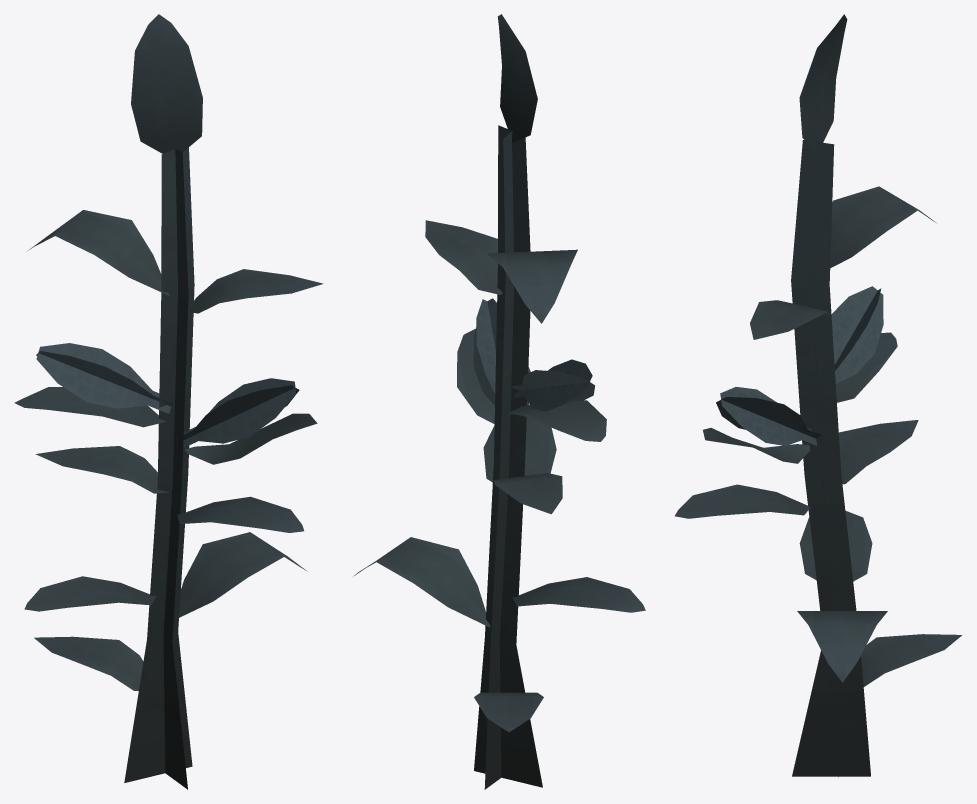
File: Corn_Prefab_3.fbx
The picture shows the model from 3 angles, left to right: view 1: azimuth 30°, elevation 25°; view 2: azimuth 150°, elevation 25°; view 3: azimuth 270°, elevation 25°; orthographic projection.
Visible parts, largest first — view 1: corn_prefab_3; view 2: corn_prefab_3; view 3: corn_prefab_3.
Part boxes in pixels (x1,y1,x2,y2): corn_prefab_3: (14, 14, 323, 789); corn_prefab_3: (353, 14, 645, 789); corn_prefab_3: (675, 14, 961, 777).
Bounding box in the file's own units: 113 × 286 × 98.08.
Materials: 1 (1 with a texture image).
